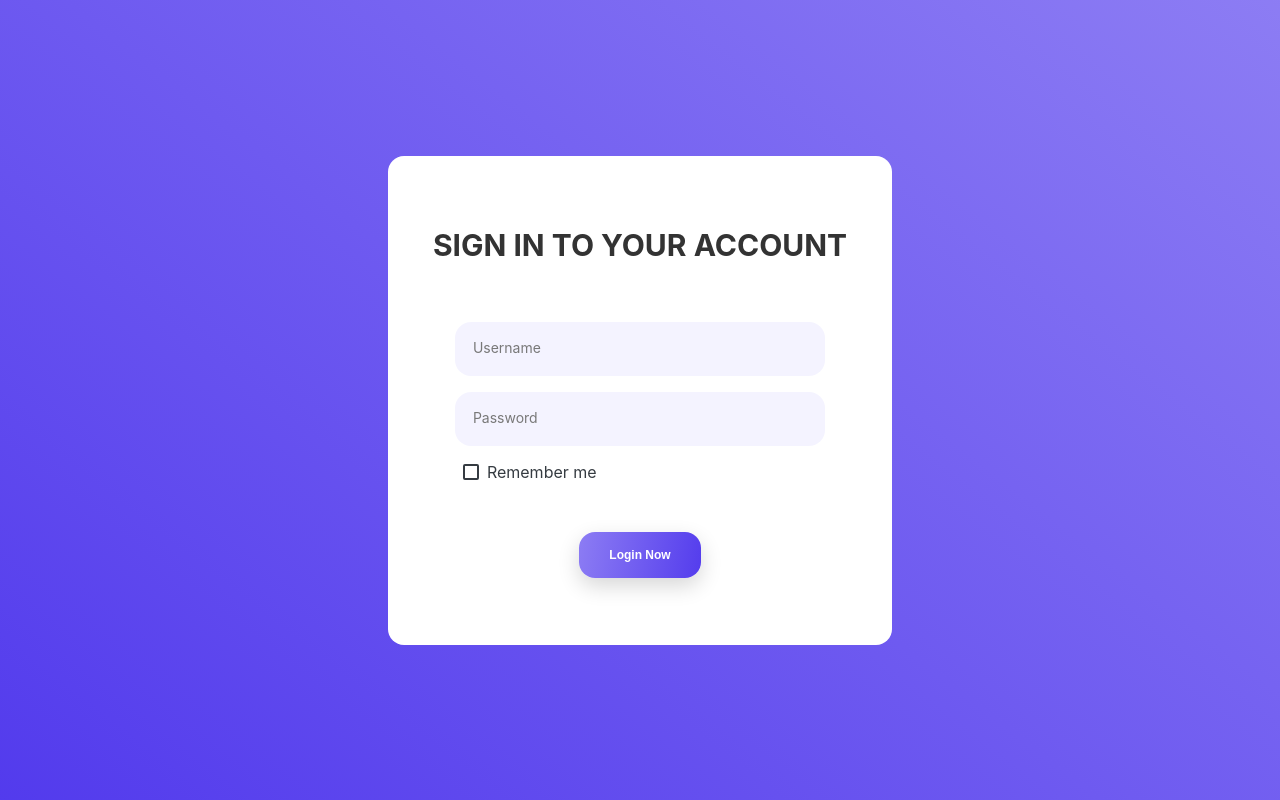
Test: App › should display password field errors
Invalid password
Type "invalidpass" into the password field labelled "Password". click: (640, 418)
box: top-left (455, 392), bottom-right (825, 446)
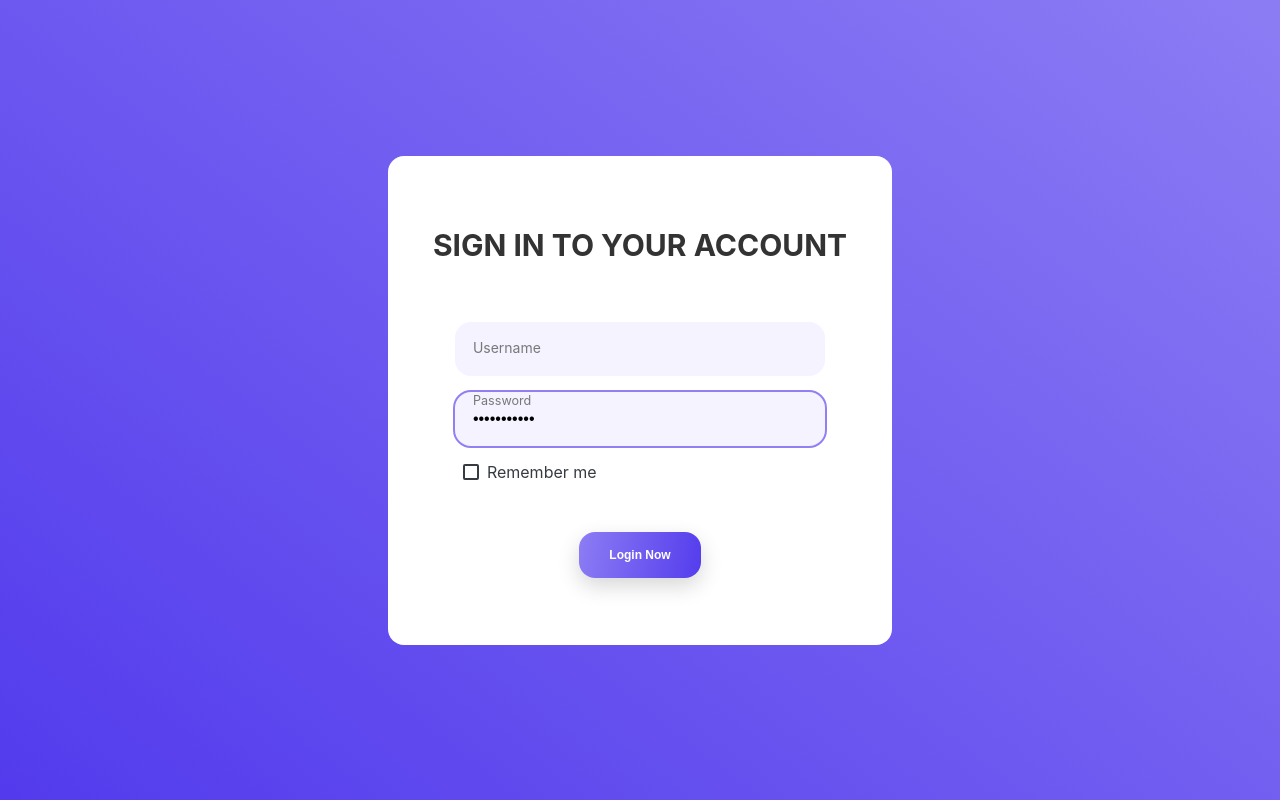
Click the button. click: (640, 554)
box: top-left (579, 532), bottom-right (701, 578)
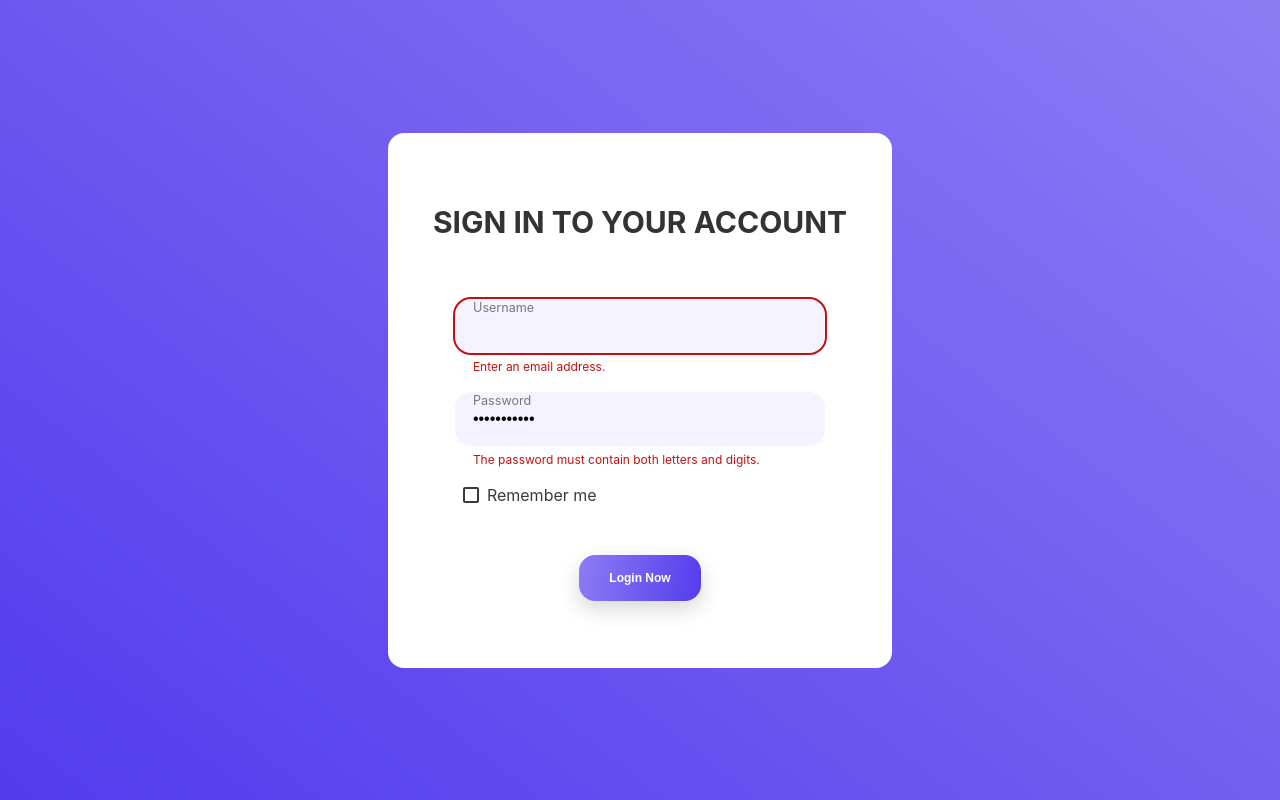
Now the message "The password must contain both letters and digits." is shown, box top-left (473, 452), bottom-right (760, 466)
Clear the password field labelled "Password". click: (640, 418)
box: top-left (455, 392), bottom-right (825, 446)
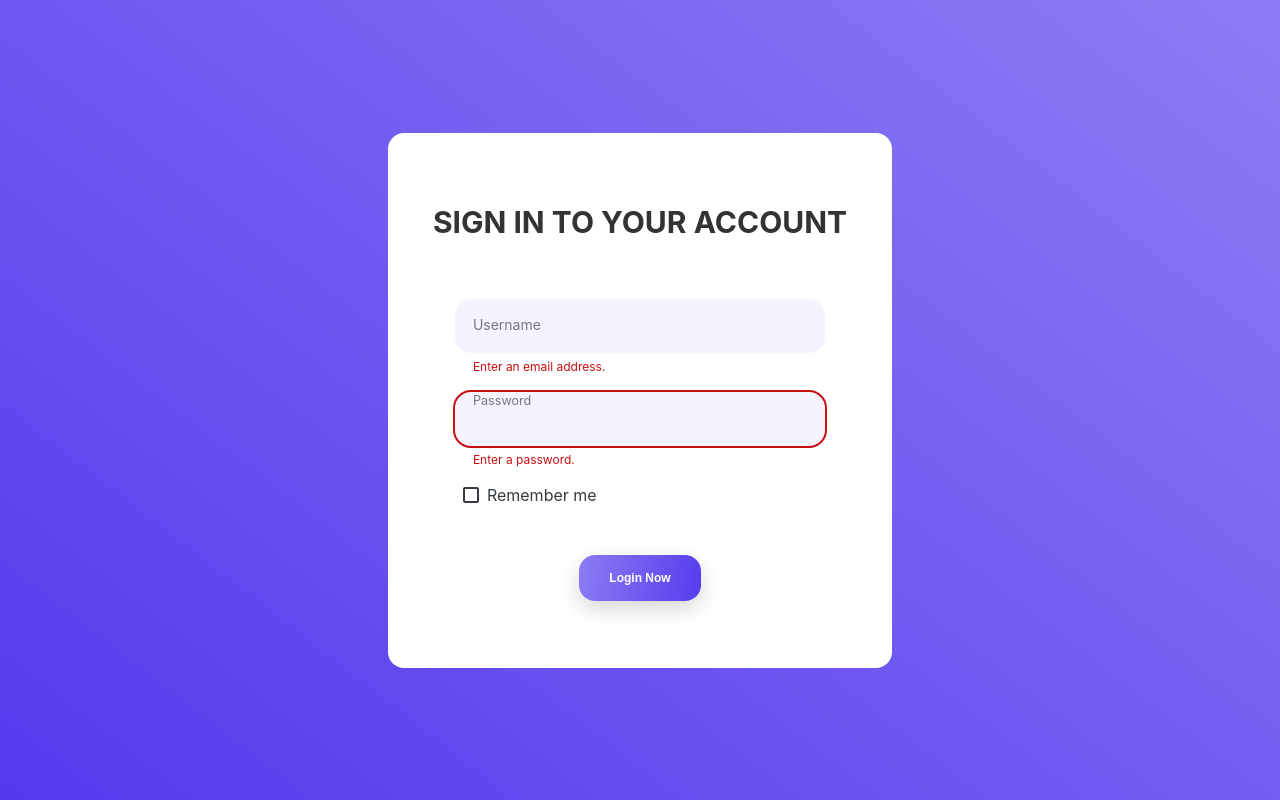
Now the message "Enter a password." is shown, box top-left (473, 452), bottom-right (575, 466)
